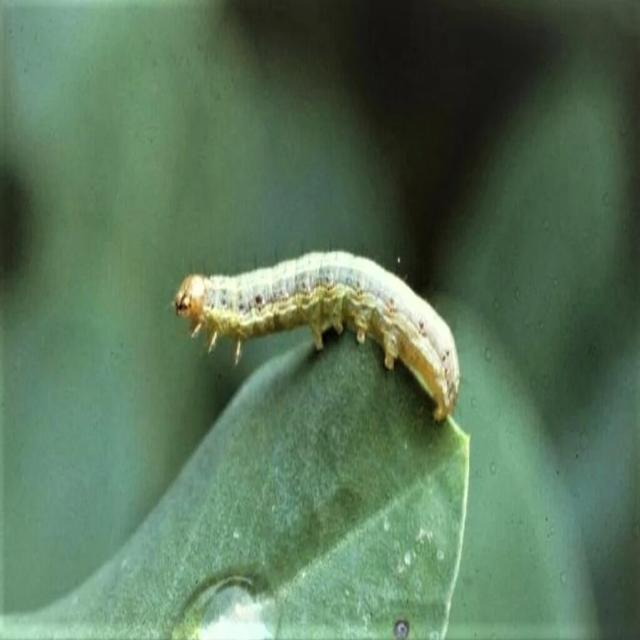armyworm: (171, 246, 461, 425)
